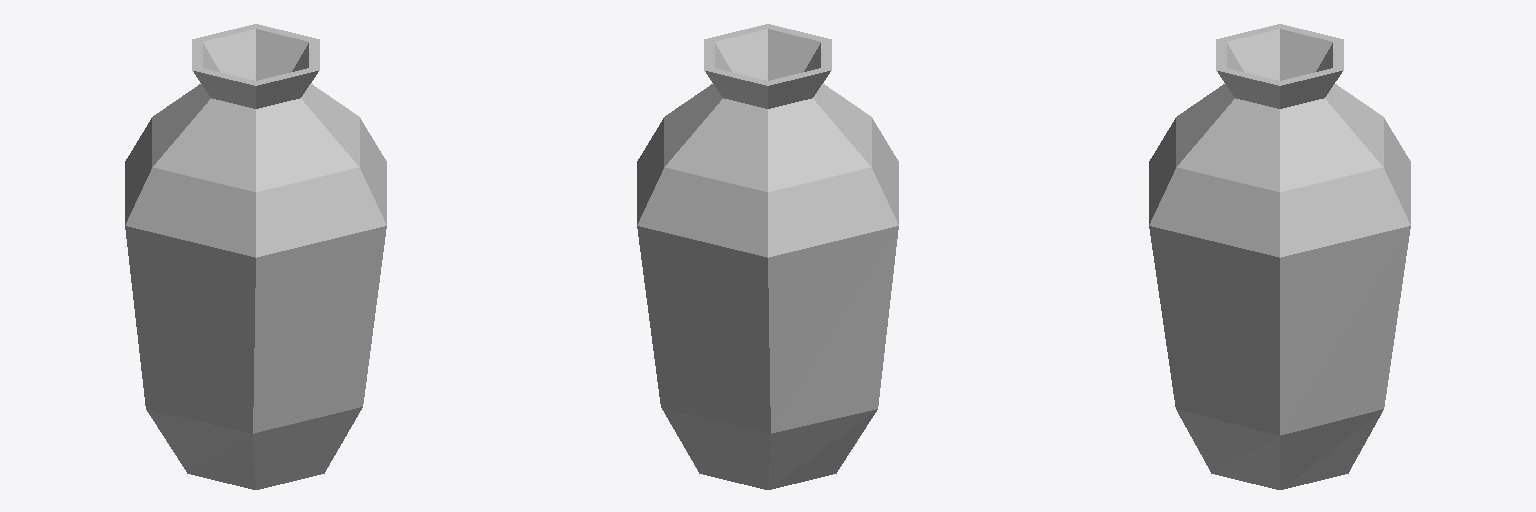
Rendered from jug_003.obj.
3 views of the same model, side by side, from view 1: azimuth 30°, elevation 25°; view 2: azimuth 150°, elevation 25°; view 3: azimuth 270°, elevation 25° (orthographic).
Parts seen in each view (by area): view 1: jug_003; view 2: jug_003; view 3: jug_003.
Boxes of the visible parts, box(x1,y1,x2,y2) form: jug_003: box(125, 24, 386, 489); jug_003: box(637, 24, 898, 489); jug_003: box(1149, 24, 1410, 489).
Size of the model in its own units: 0.3887 by 0.5704 by 0.3367.